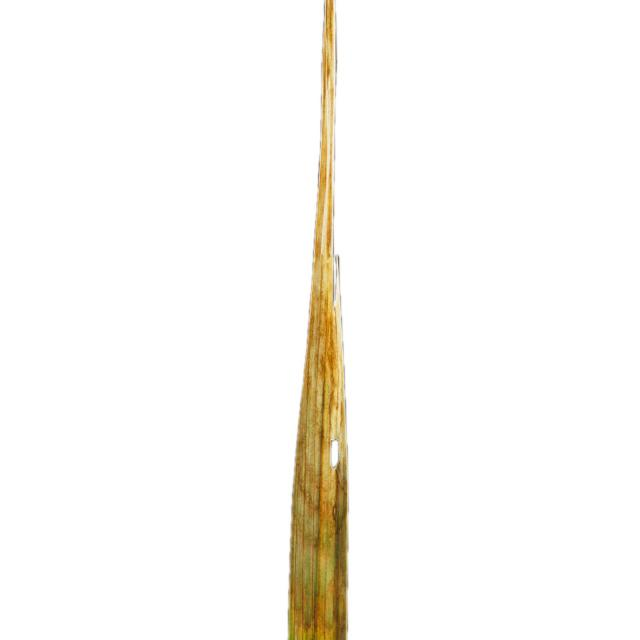Leaf scald: (176, 0, 492, 640)
